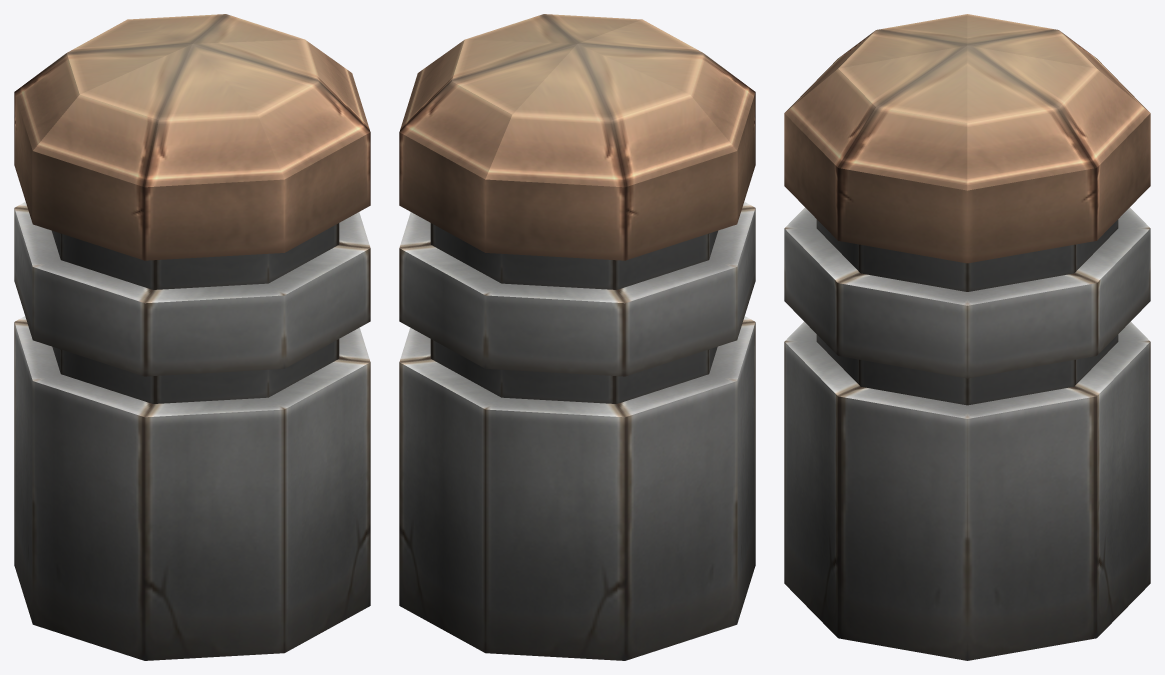
Rendered from Item_RoadBarrier.FBX.
The picture shows the model from 3 angles, left to right: view 1: azimuth 30°, elevation 25°; view 2: azimuth 150°, elevation 25°; view 3: azimuth 270°, elevation 25°; orthographic projection.
Visible parts, largest first — view 1: Item_RoadBarrier; view 2: Item_RoadBarrier; view 3: Item_RoadBarrier.
Part boxes in pixels (x1,y1,x2,y2): Item_RoadBarrier: (14, 14, 370, 660); Item_RoadBarrier: (399, 14, 755, 660); Item_RoadBarrier: (784, 14, 1150, 660).
Size of the model in its own units: 36.61 by 59.37 by 36.61.
